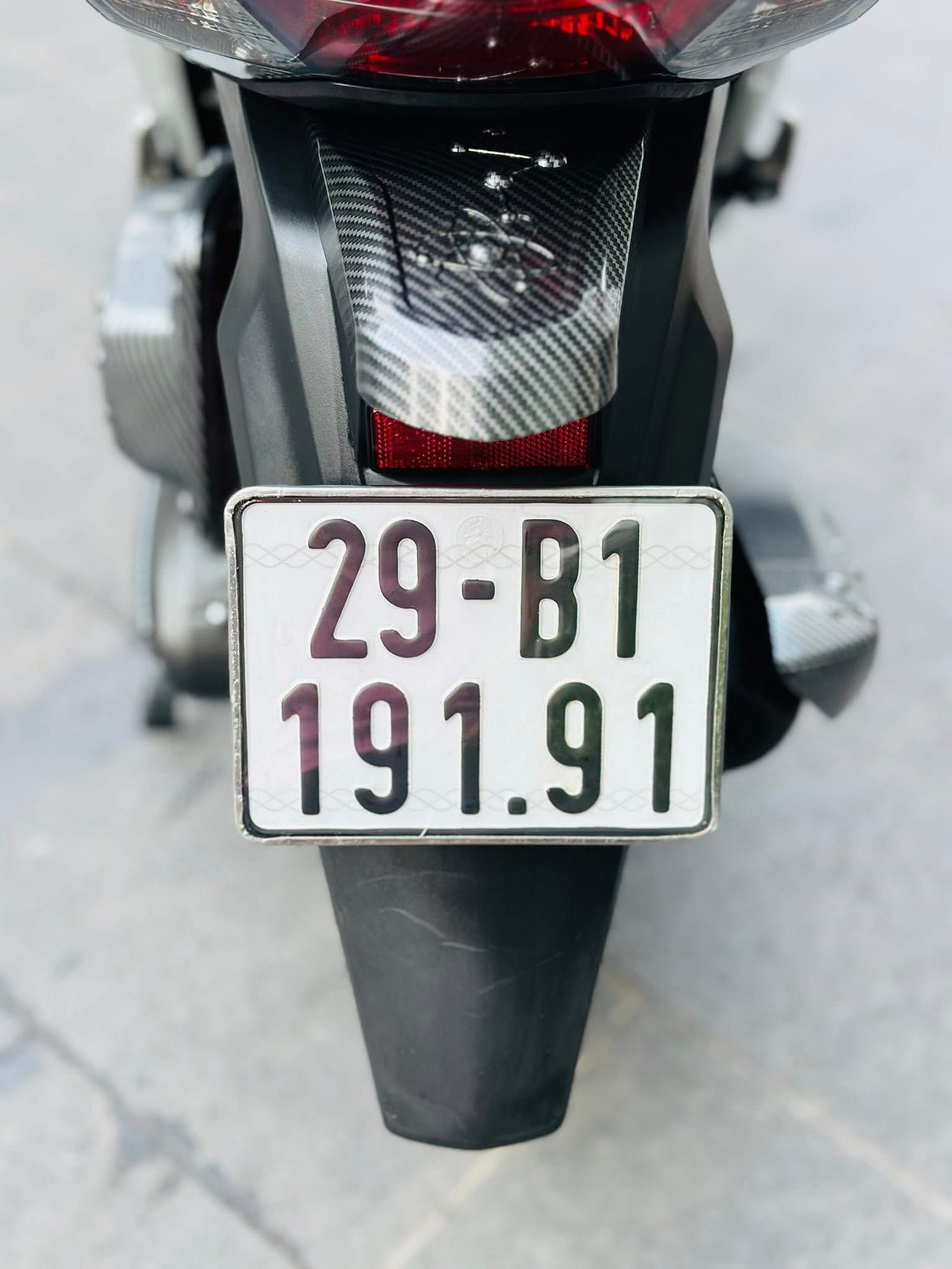bien_so: (202, 464, 752, 865)
